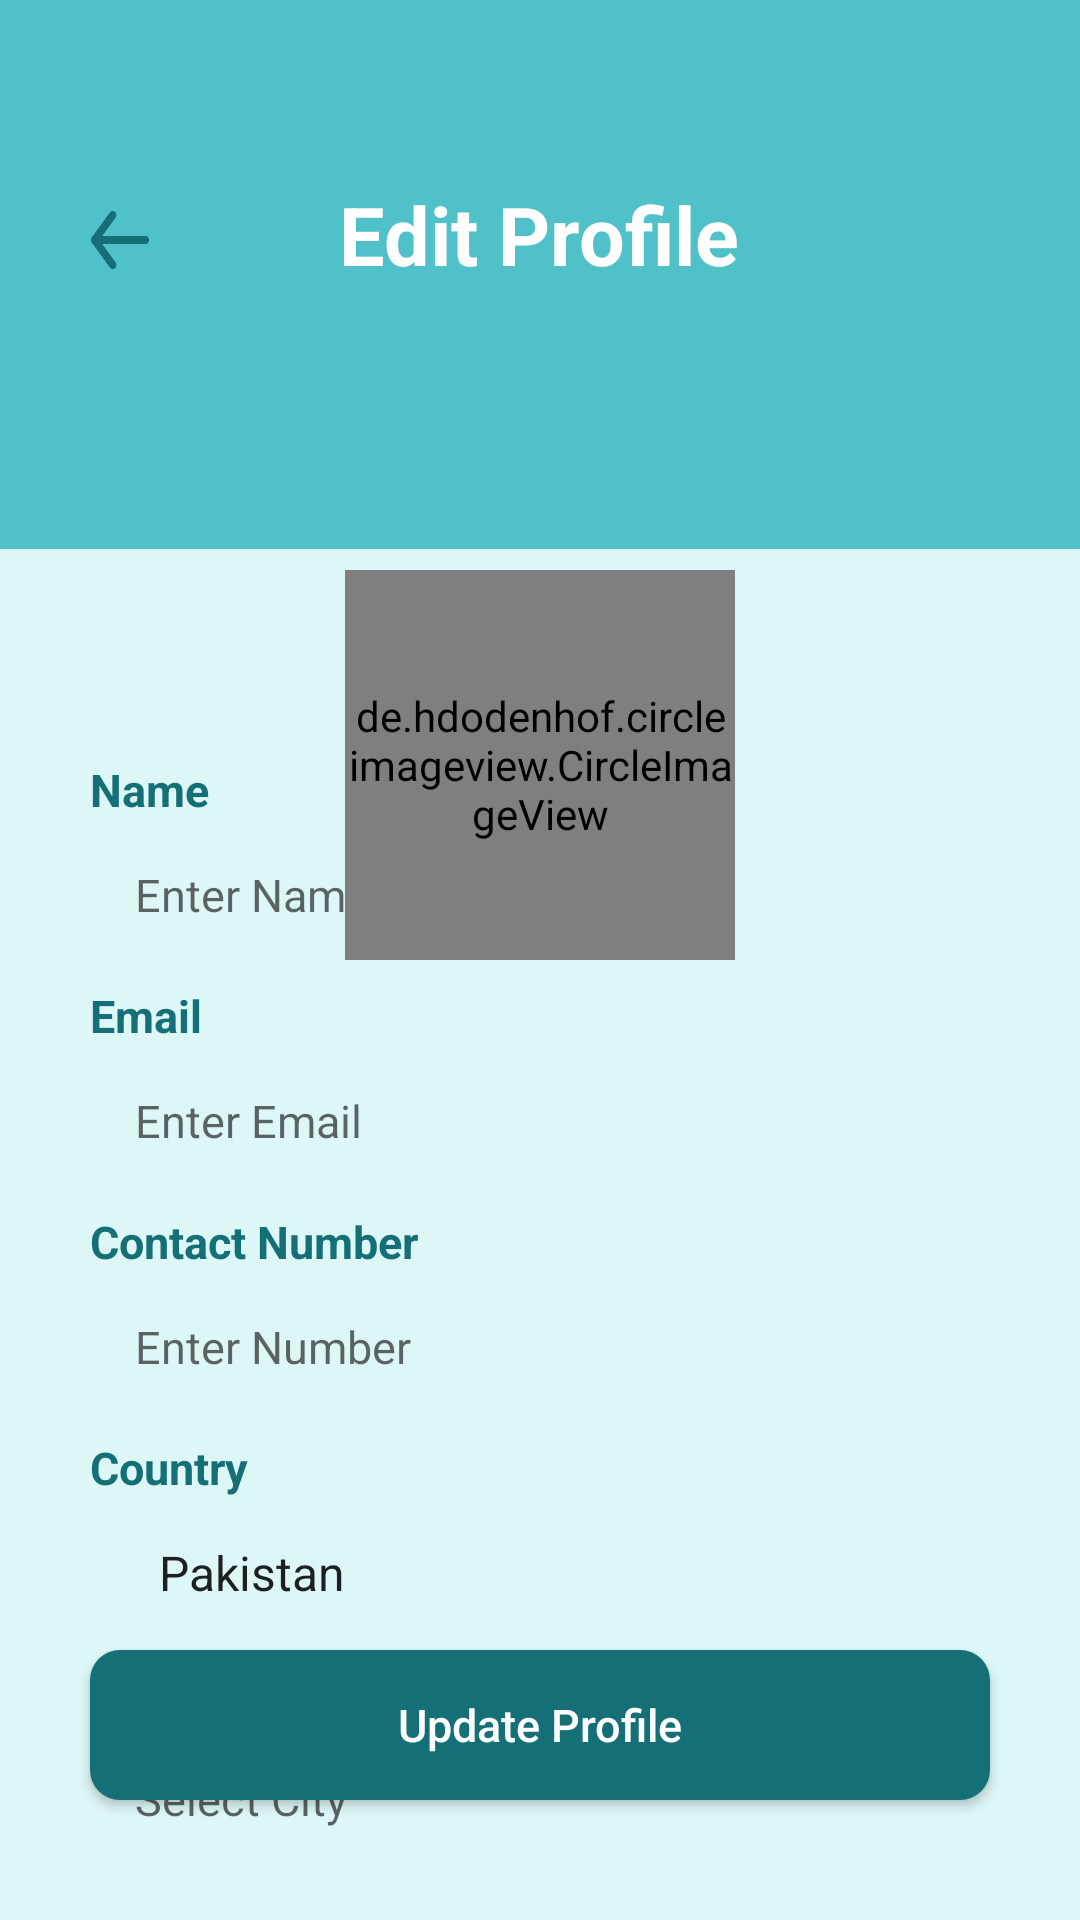

Named icons in this screenshot (1080px×1920px) and their bounding boxes, (x1, y1, x2, y2):
back arrow: (91, 211, 149, 269)
